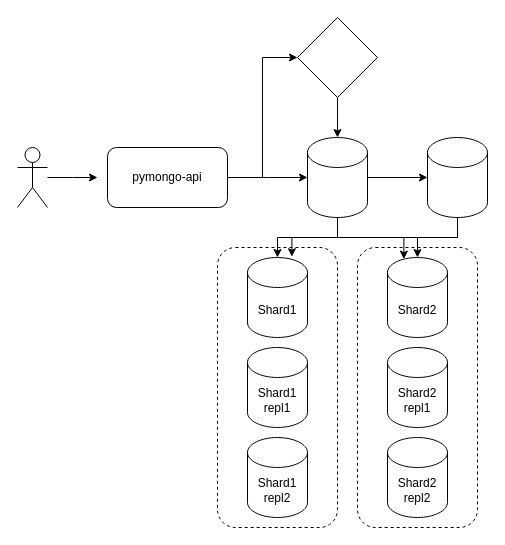
Image size: 505x545. Some labels were removed from this diagram. Each missing label, with the centre of its shape:
"Actor" belongs at pixel 32 177.
"convig server" belongs at pixel 457 177.
"mongos router" belongs at pixel 337 177.
"redis" belongs at pixel 337 57.
